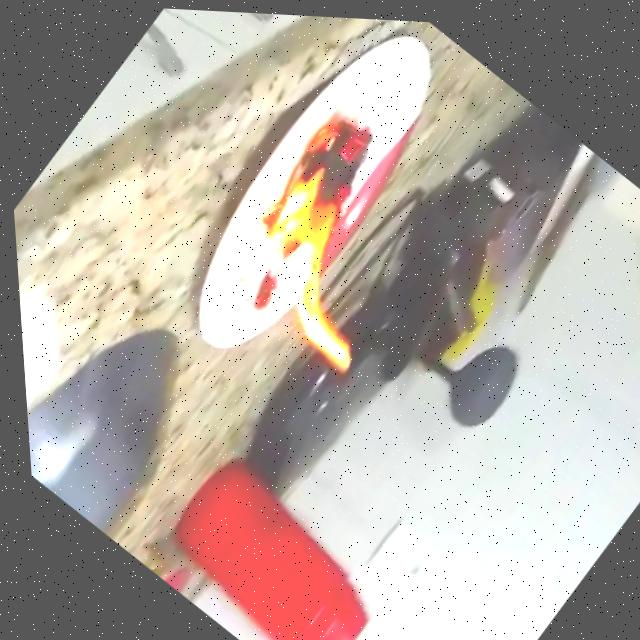Fire: (192, 82, 484, 382)
